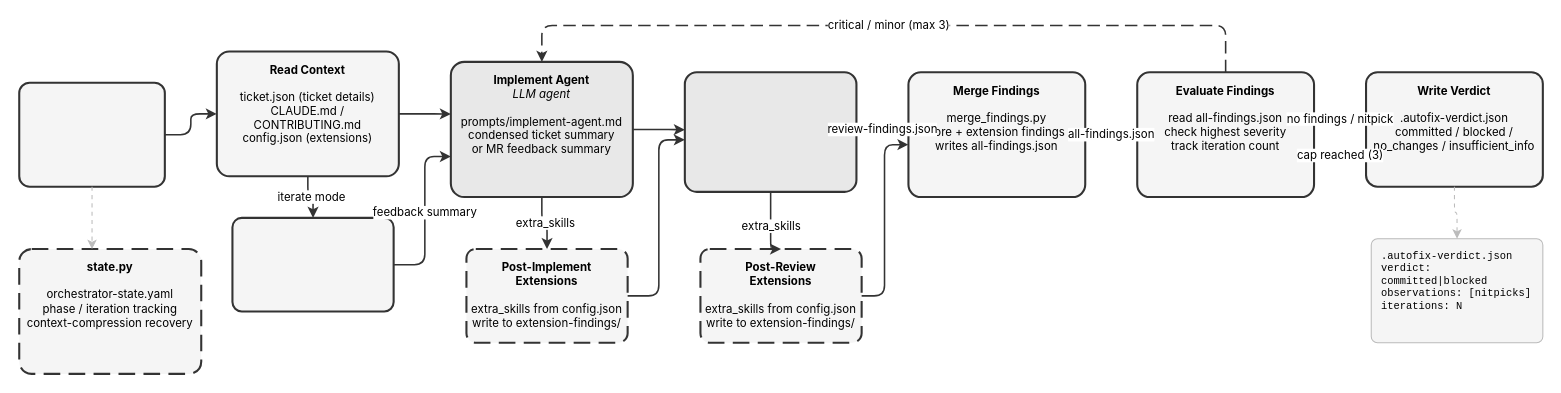
Image size: 1561x393. Some labels were removed from this diagram. Here are the shapes that lost their labels. From the top down, the box of each, then its label:
(18, 81, 165, 187): /autofix-resolve resolve (fresh ticket) iterate (MR feedback)
(683, 71, 857, 192): Review Agent LLM agent prompts/review-agent.md writes review-findings.json
(231, 216, 394, 312): Read Feedback review-comments.json ci-failures.json
